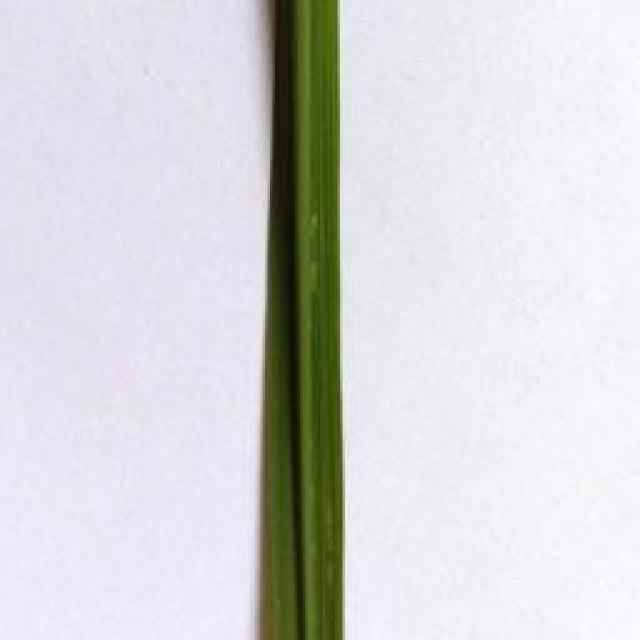Healthy-Plant: (268, 0, 336, 640)
